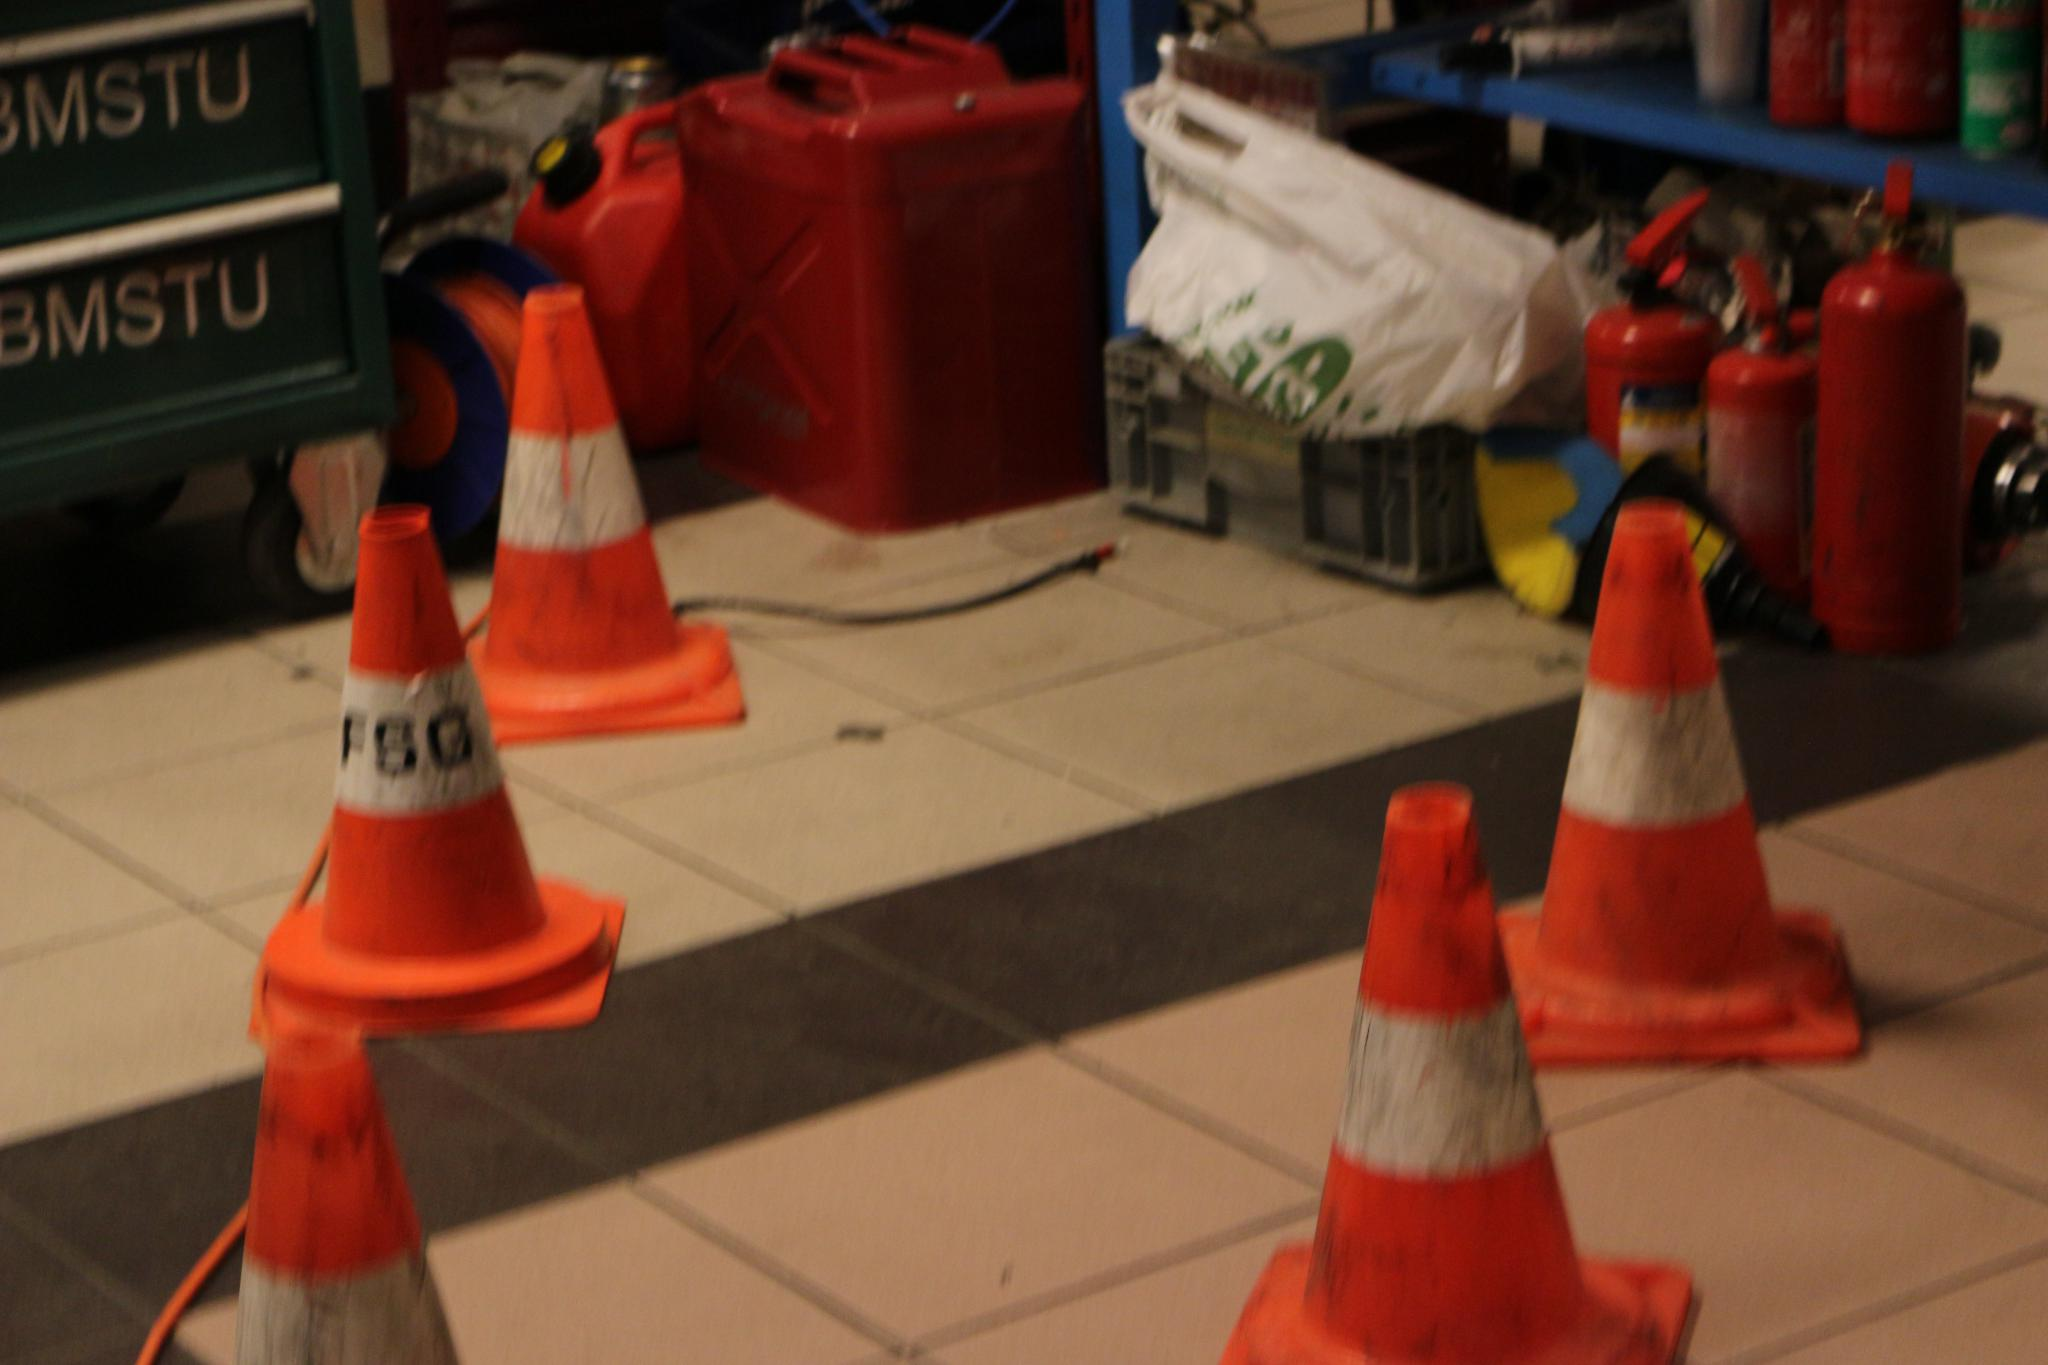Orange_Cone: (1488, 484, 1874, 1062), (1259, 757, 1623, 1363), (285, 495, 618, 1022), (460, 270, 752, 734), (227, 996, 487, 1362)
